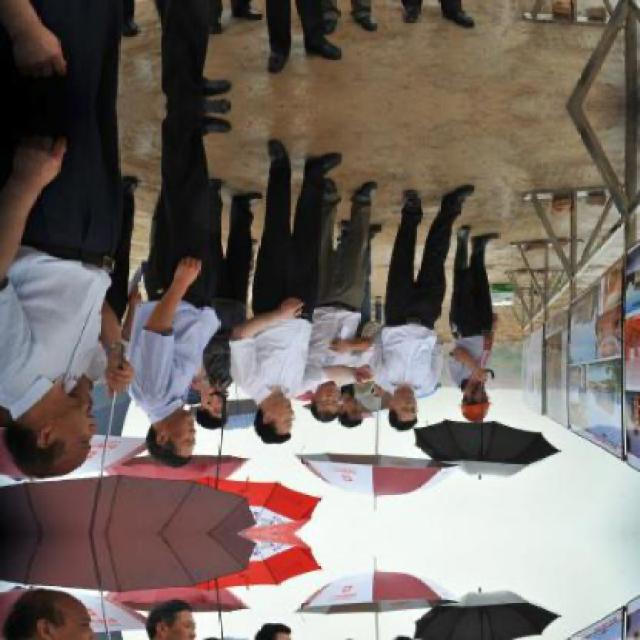con casco: (253, 366, 308, 437)
sin casco: (0, 384, 134, 497), (357, 379, 470, 438), (137, 390, 199, 487), (418, 389, 539, 420), (249, 379, 299, 448), (322, 393, 390, 437), (304, 382, 339, 429)
